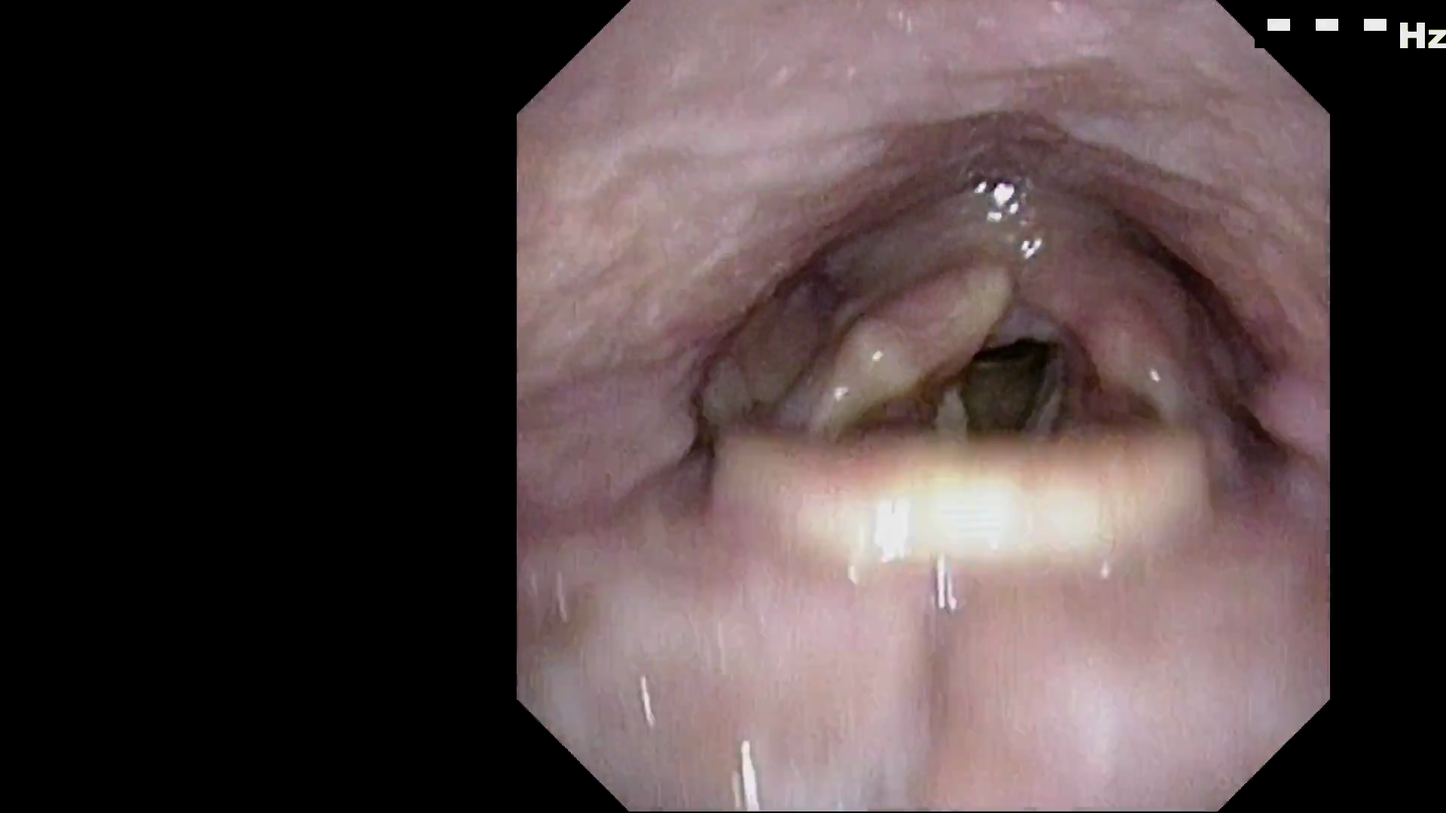epiglottis: (682, 310, 1281, 590)
trachea: (904, 210, 1075, 419)
